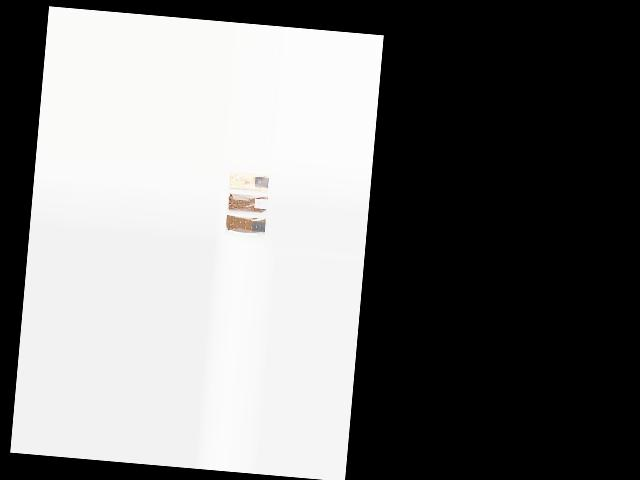chocolate: (223, 215, 265, 237)
